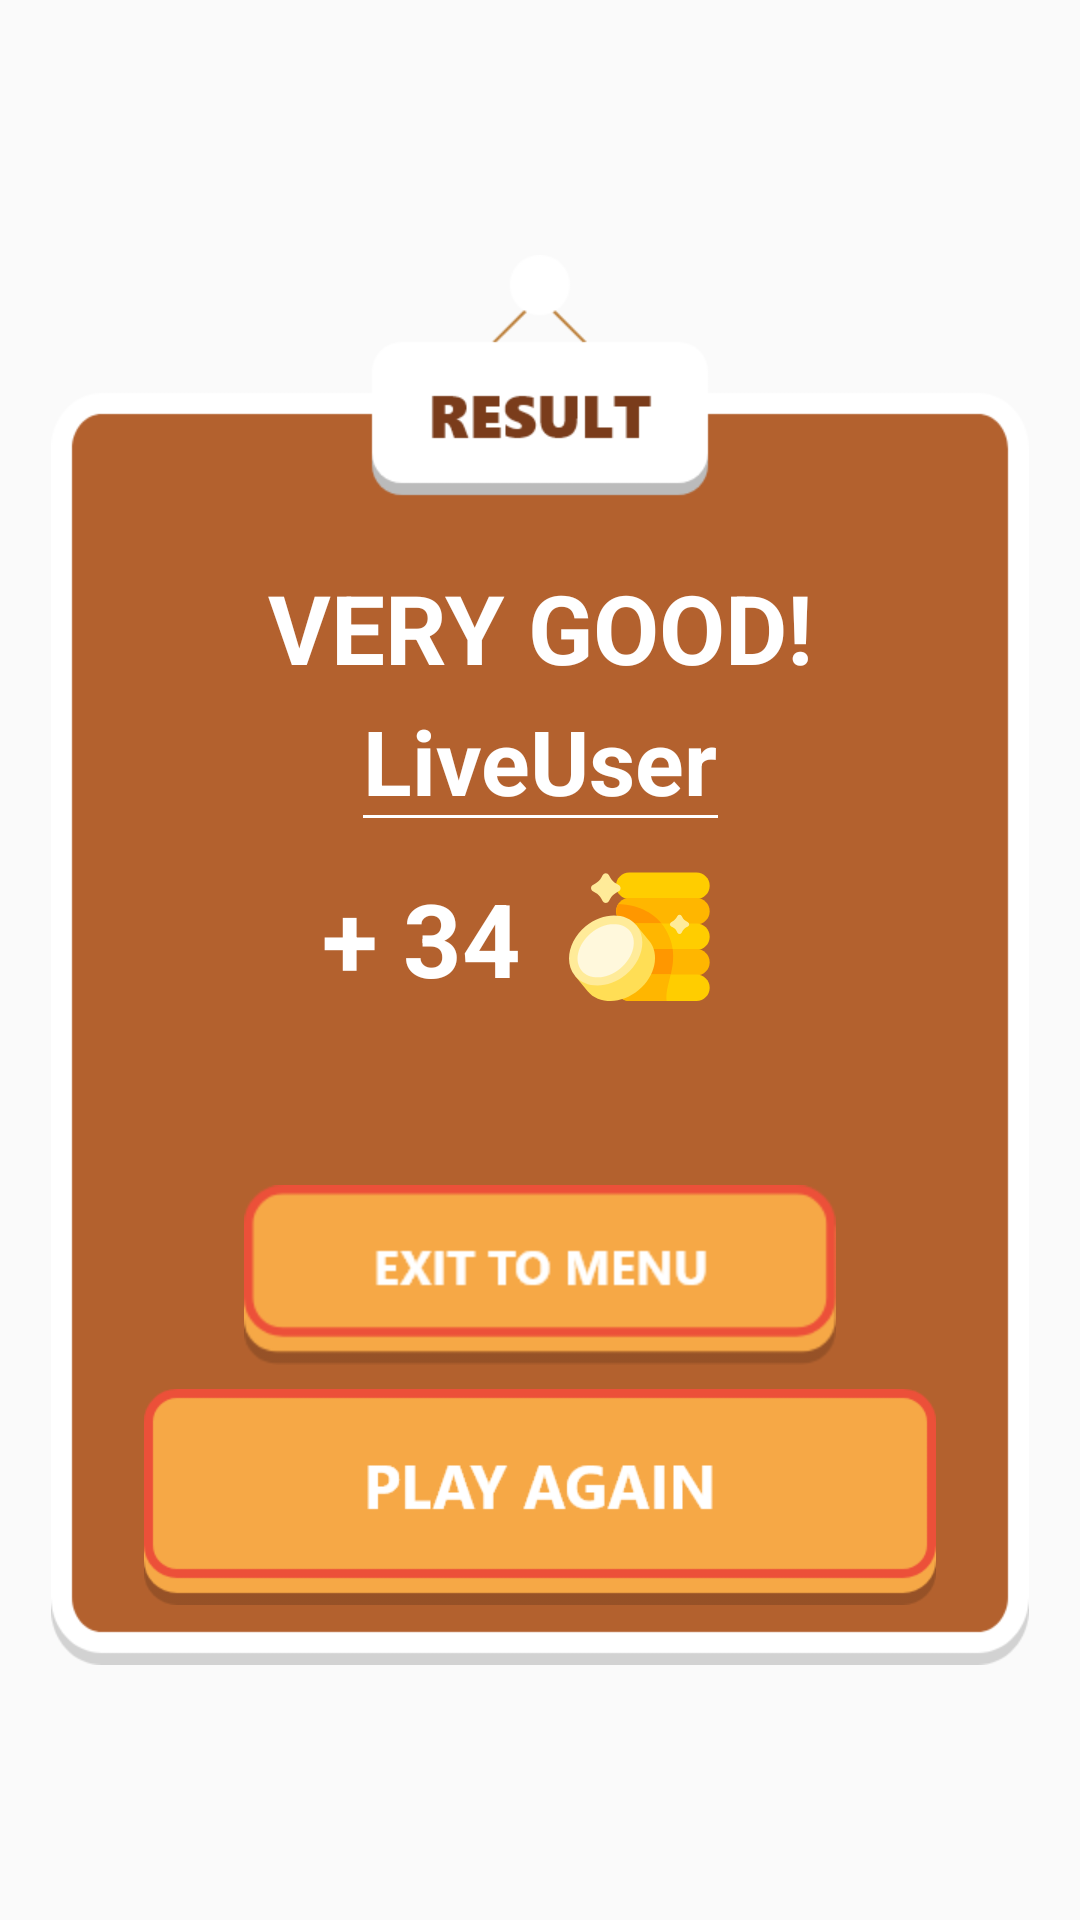

Where icons sit on this 1080 × 1920 app screen, as bbox(x1, y1, x2, y2):
coins: bbox(569, 872, 710, 1001)
